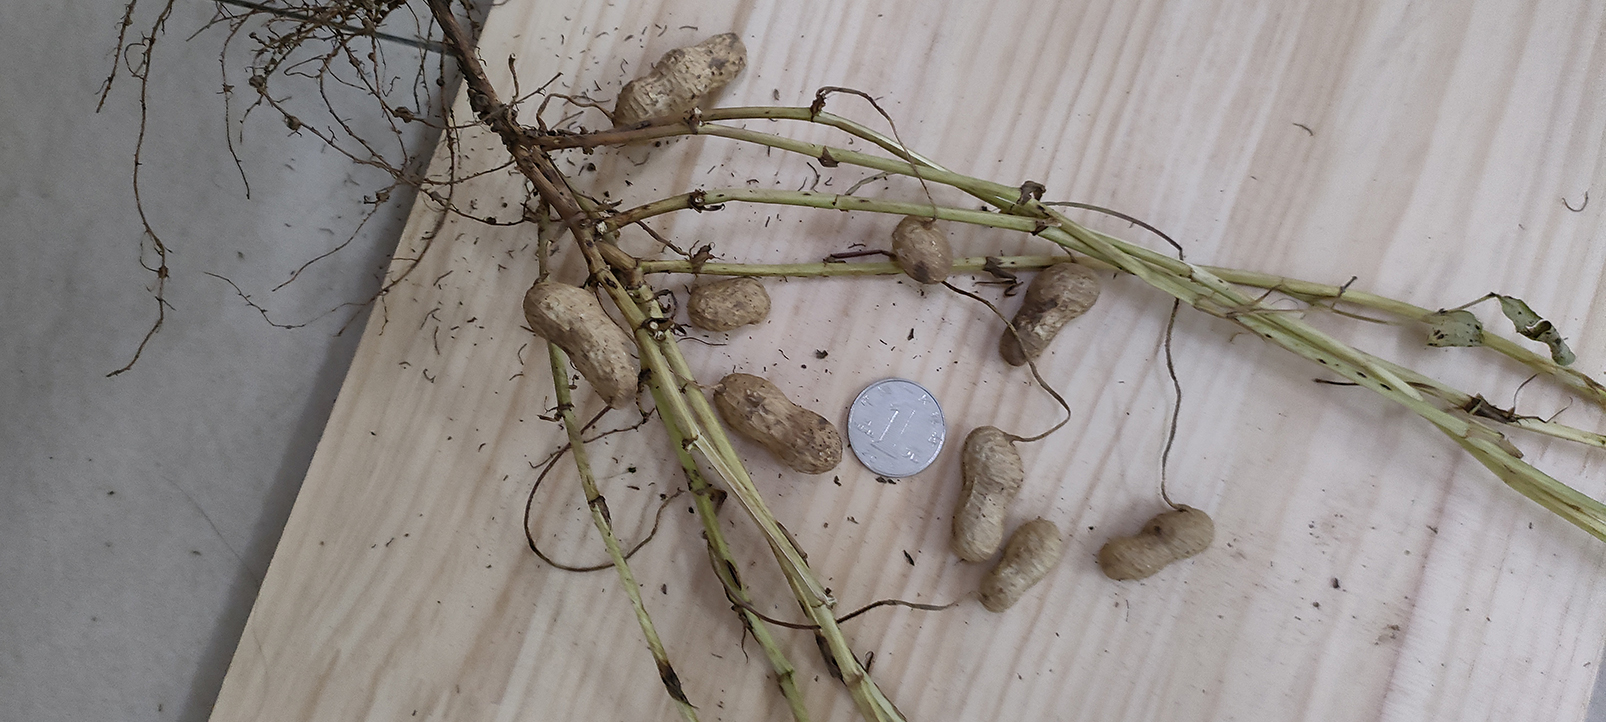h: (524, 279, 638, 409), (714, 373, 844, 473), (614, 32, 748, 129), (952, 426, 1025, 566), (976, 516, 1064, 613), (688, 277, 771, 330), (892, 217, 953, 283)
l: (1000, 263, 1101, 365), (1100, 505, 1215, 583)
